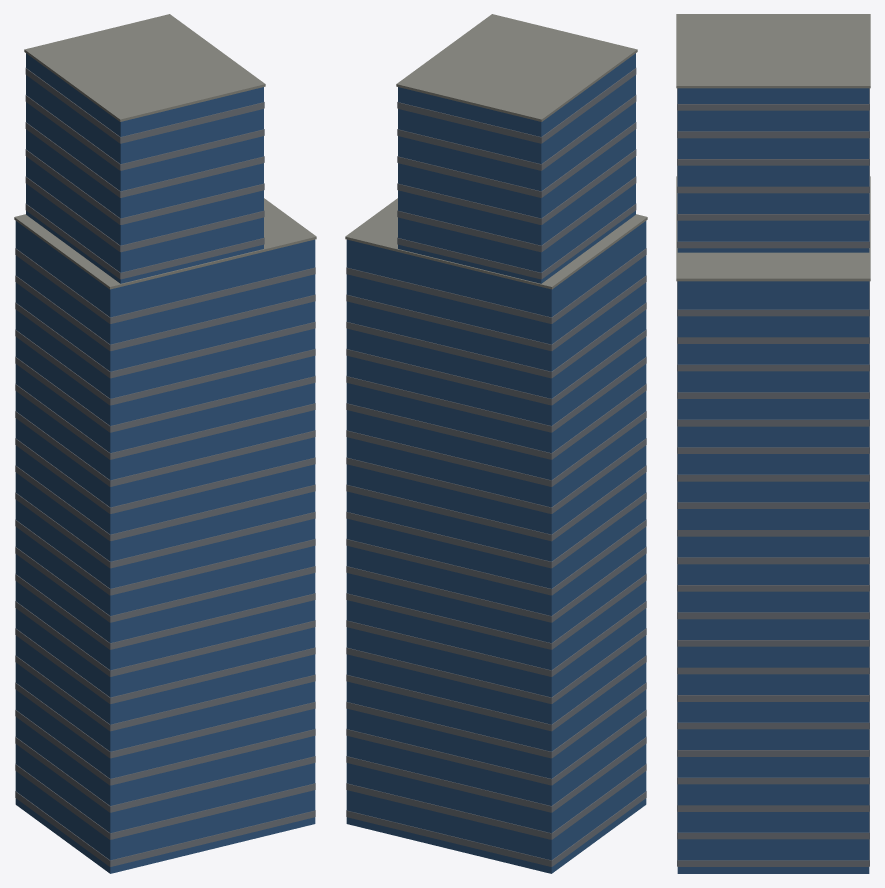
File: TorreCristalA.obj
3 views of the same model, side by side, from view 1: azimuth 30°, elevation 25°; view 2: azimuth 150°, elevation 25°; view 3: azimuth 270°, elevation 25° (orthographic).
Parts seen in each view (by area): view 1: TorreCristalA; view 2: TorreCristalA; view 3: TorreCristalA.
Boxes of the visible parts, <box> form: TorreCristalA: <box>14,14,316,873</box>; TorreCristalA: <box>345,14,647,873</box>; TorreCristalA: <box>676,14,870,873</box>.
Bounding box in the file's own units: 30.3 × 105 × 24.3.
